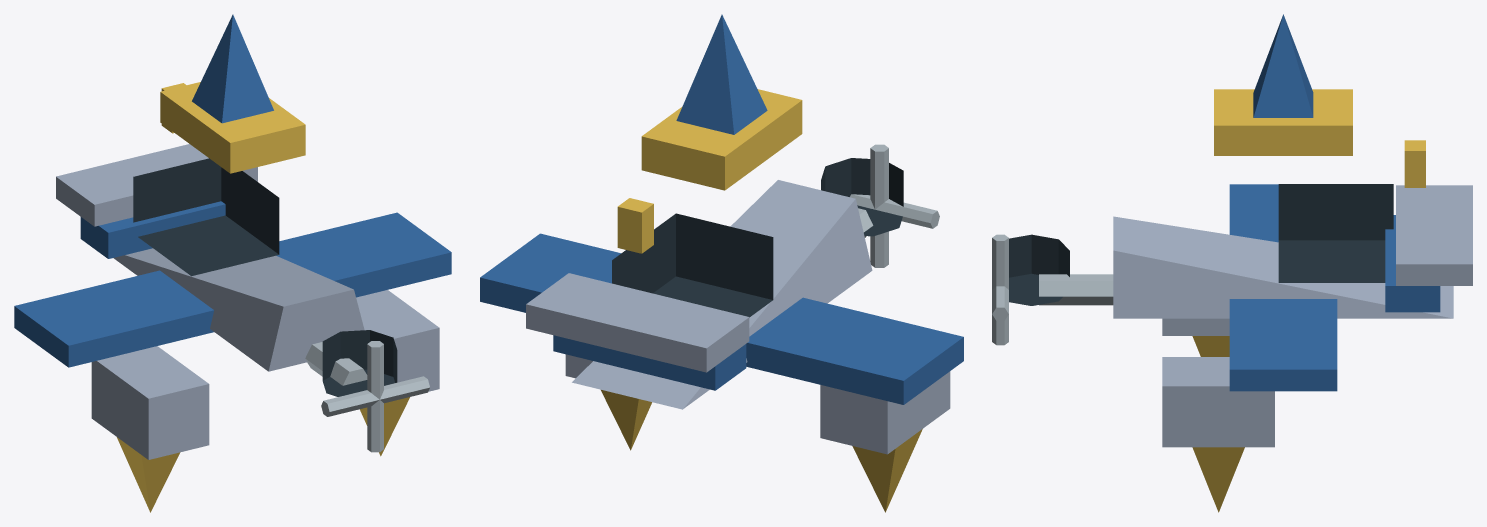
Rendered from bomber.obj.
3 views of the same model, side by side, from view 1: azimuth 30°, elevation 25°; view 2: azimuth 150°, elevation 25°; view 3: azimuth 270°, elevation 25° (orthographic). The views are drawn at different scales.
Visible parts, largest first — view 1: air; view 2: air; view 3: air.
Boxes of the visible parts, left/top/right/bottom form: air: left=14, top=14, right=451, bottom=512; air: left=480, top=14, right=963, bottom=512; air: left=992, top=14, right=1472, bottom=512.
Size of the model in its own units: 1.83 by 2.04 by 2.01.
